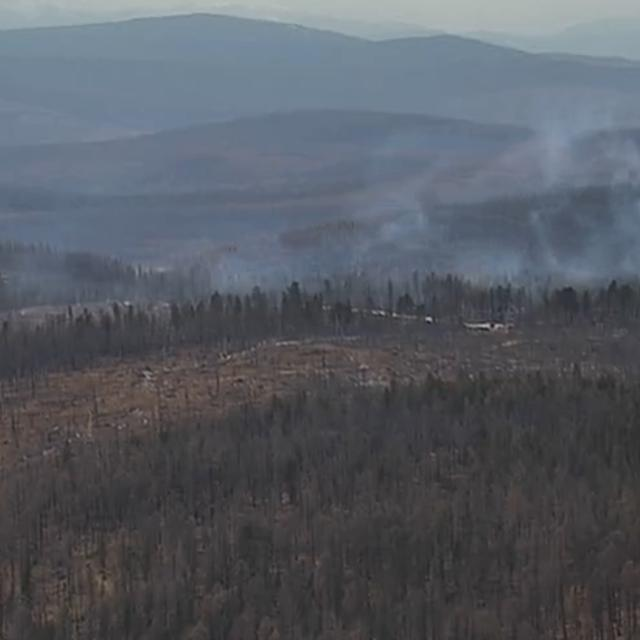Smoke: (0, 104, 640, 329)
